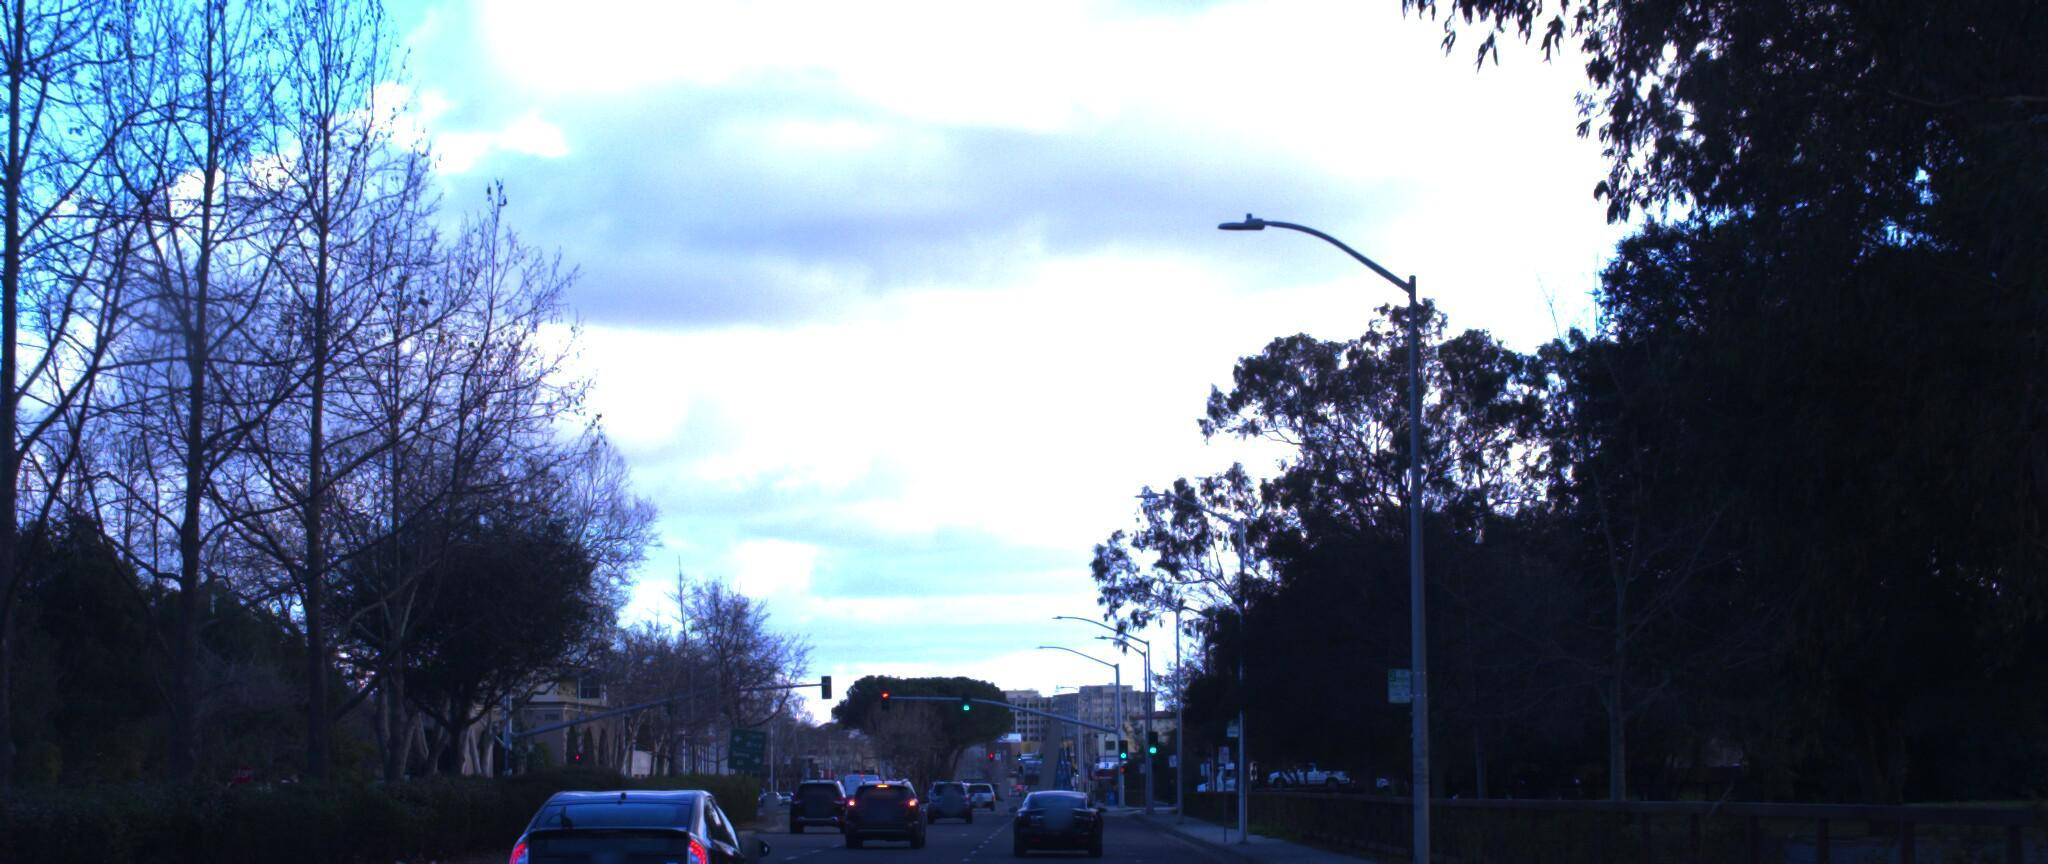car: (508, 765, 790, 864), (1017, 769, 1106, 841), (852, 757, 935, 829)
